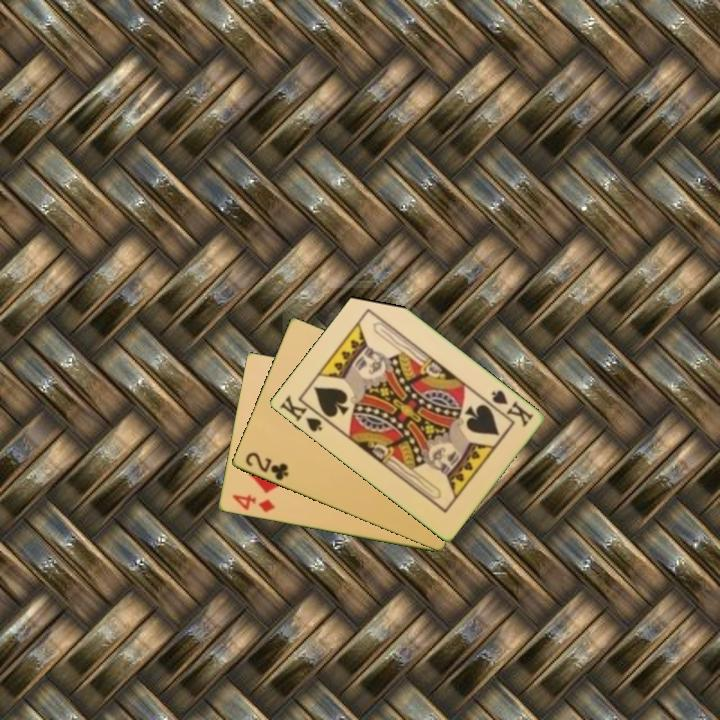2c: (241, 448, 291, 484)
4d: (228, 491, 277, 516)
Ks: (276, 392, 331, 435), (487, 386, 536, 430)
